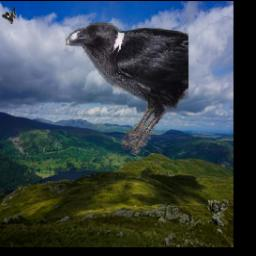Crow: (67, 22, 189, 156)
Woodpecker: (2, 7, 17, 24)
